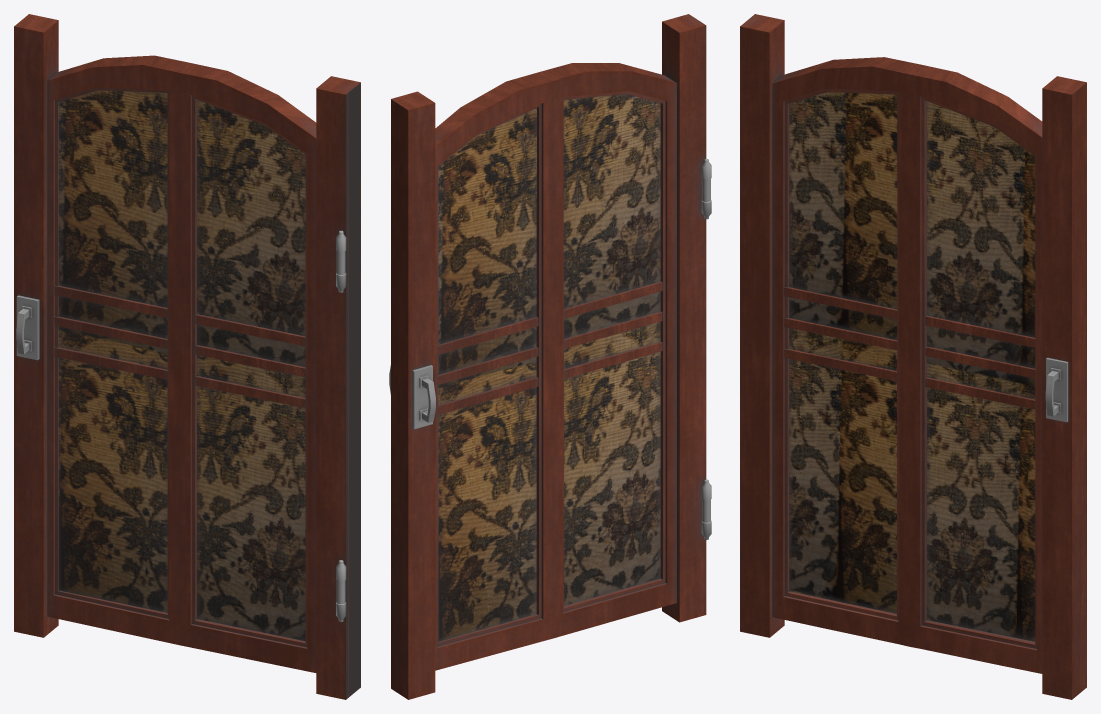
Rendered from SM_Toilet_Door.fbx.
3 renders of one model, left to right at view 1: azimuth 90°, elevation 25°; view 2: azimuth 150°, elevation 25°; view 3: azimuth 270°, elevation 25°, orthographic. The views are drawn at different scales.
Visible parts, largest first — view 1: SM_Toilet_Door; view 2: SM_Toilet_Door; view 3: SM_Toilet_Door.
Boxes of the visible parts, left/top/right/bottom form: SM_Toilet_Door: left=14, top=14, right=360, bottom=699; SM_Toilet_Door: left=389, top=14, right=711, bottom=699; SM_Toilet_Door: left=740, top=14, right=1086, bottom=699.
Bounding box in the file's own units: 38.95 × 63.46 × 122.
Materials: 1 (1 with a texture image).
